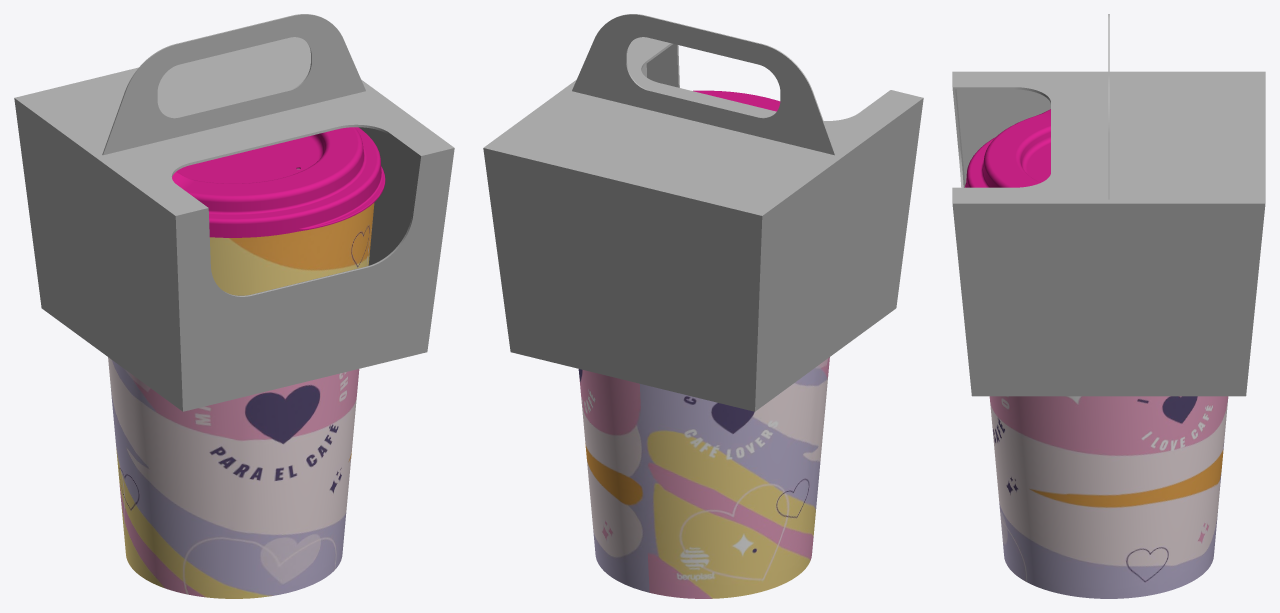
Rendered from Sombrero_011B.glb.
The picture shows the model from 3 angles, left to right: view 1: azimuth 30°, elevation 25°; view 2: azimuth 150°, elevation 25°; view 3: azimuth 270°, elevation 25°; orthographic projection. The views are drawn at different scales.
Parts seen in each view (by area): view 1: object_2_n3d, object_1%2E002_n3d, tapa pico, object_1_n3d; view 2: object_2_n3d, object_1%2E002_n3d, object_1_n3d, tapa pico; view 3: object_2_n3d, object_1%2E002_n3d, tapa pico.
Part boxes in pixels (left/top/right/bottom): object_2_n3d: left=14, top=37, right=454, bottom=411; object_1%2E002_n3d: left=108, top=168, right=374, bottom=598; tapa pico: left=172, top=127, right=385, bottom=237; object_1_n3d: left=102, top=14, right=365, bottom=155; object_2_n3d: left=483, top=37, right=923, bottom=411; object_1%2E002_n3d: left=578, top=357, right=829, bottom=598; object_1_n3d: left=572, top=14, right=835, bottom=155; tapa pico: left=693, top=90, right=780, bottom=111; object_2_n3d: left=952, top=71, right=1265, bottom=396; object_1%2E002_n3d: left=989, top=396, right=1228, bottom=598; tapa pico: left=964, top=109, right=1050, bottom=187.
Bounding box in the file's own units: 1.27 × 2.27 × 1.27.
4 materials, 1 textured.
